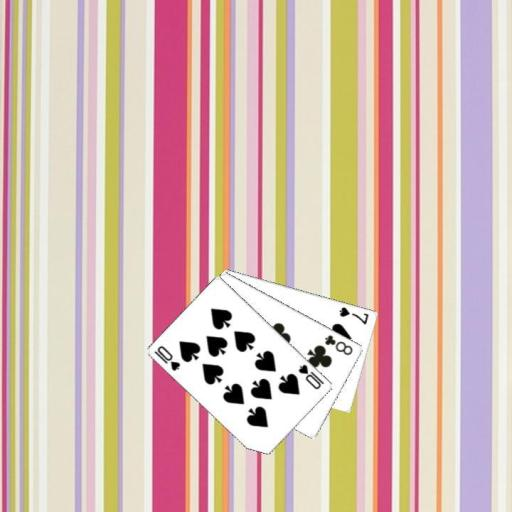10S: (295, 361, 326, 391), (152, 342, 182, 373)
7S: (337, 304, 371, 326)
8C: (322, 332, 354, 357)
